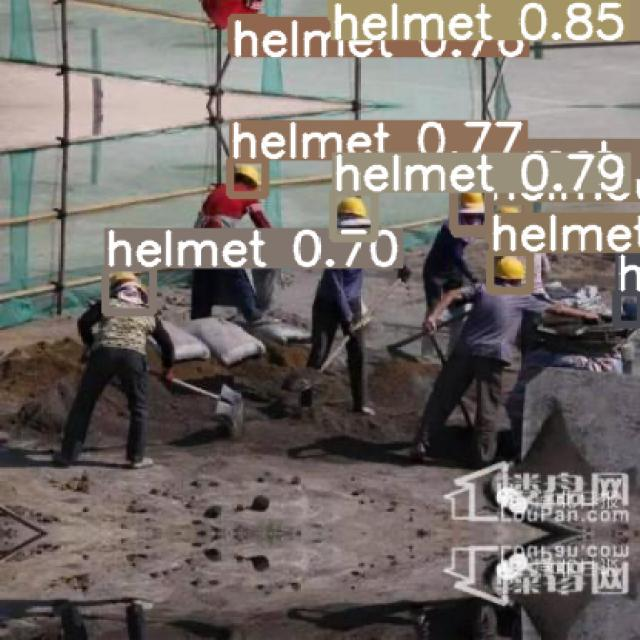Helmet: (336, 195, 371, 229), (494, 255, 525, 281), (234, 164, 261, 186)
